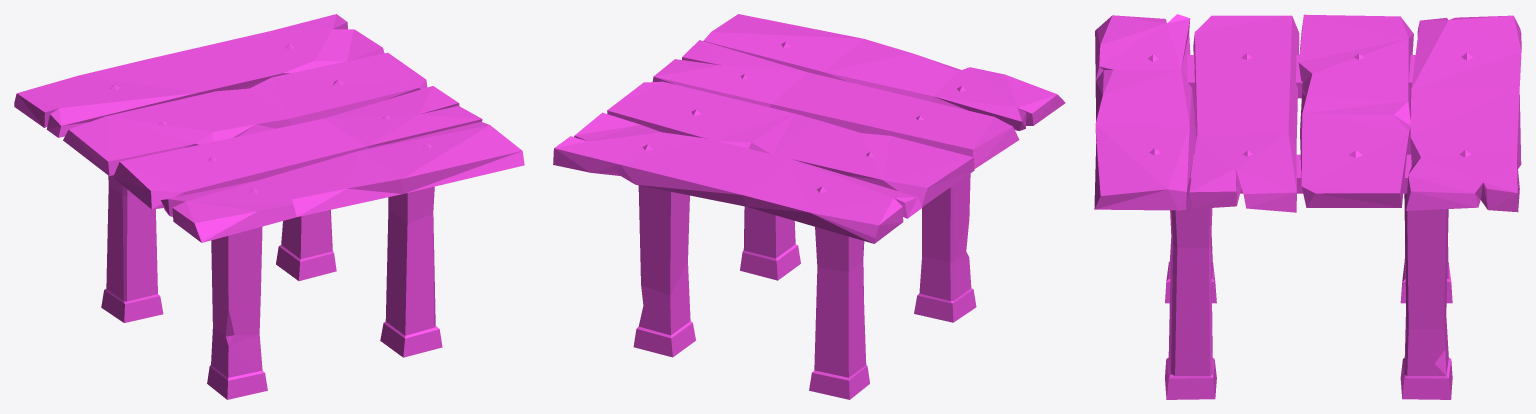
File: SM_Table_Rough_Square_C_Fantasy.fbx
3 renders of one model, left to right at view 1: azimuth 30°, elevation 25°; view 2: azimuth 150°, elevation 25°; view 3: azimuth 270°, elevation 25°, orthographic. The views are drawn at different scales.
Visible parts, largest first — view 1: SM_Table_Rough_Square_C_Fantasy; view 2: SM_Table_Rough_Square_C_Fantasy; view 3: SM_Table_Rough_Square_C_Fantasy.
Part boxes in pixels (<box>): SM_Table_Rough_Square_C_Fantasy: <box>14,14,524,399</box>; SM_Table_Rough_Square_C_Fantasy: <box>553,14,1065,399</box>; SM_Table_Rough_Square_C_Fantasy: <box>1094,14,1521,399</box>.
Bounding box in the file's own units: 1.3 × 0.8099 × 1.3.
